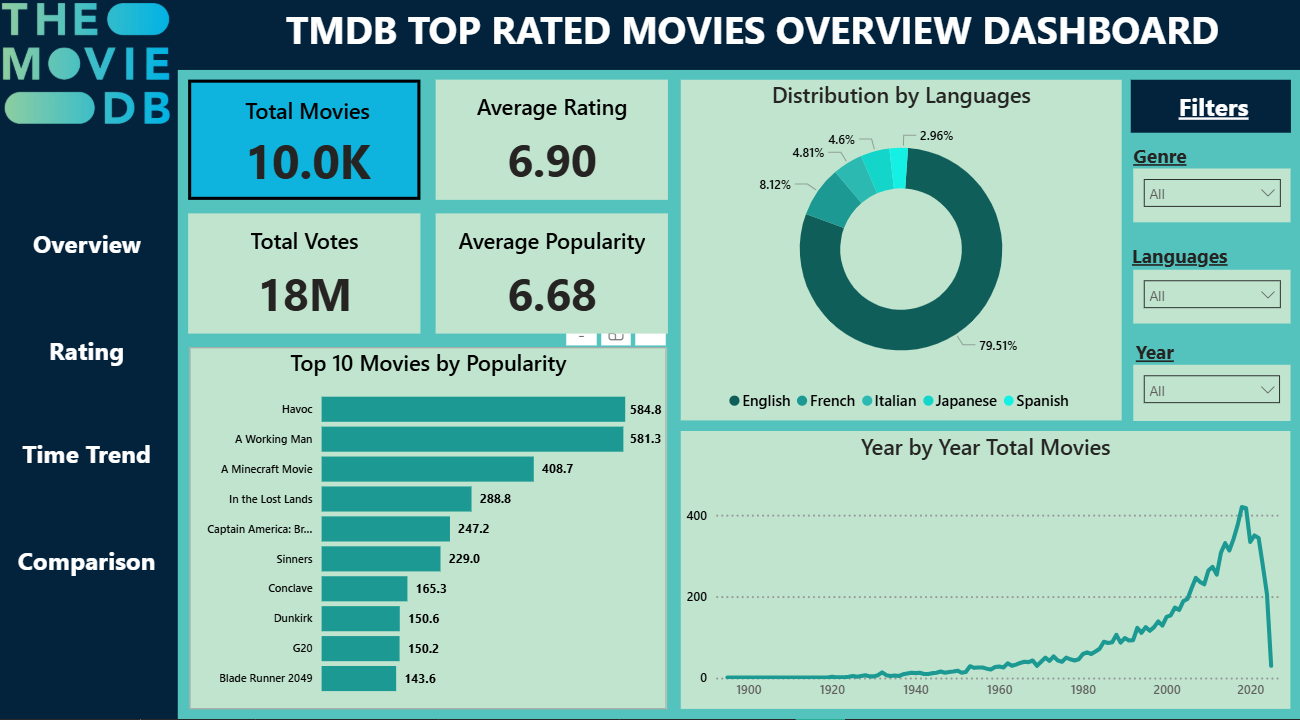

This screenshot's page, from the dashboard's own definition file:
{"tool":"powerbi","page":{"name":"Overview","canvas":[1280,720],"ordinal":0},"visuals":[{"type":"shape","box":[0,0,1280,82.5],"z":0,"group":"g1"},{"type":"barChart","title":"Top 10 Movies by Popularity","fields":{"Category":["api_data tmdb_api_cleaned_data.movie_name"],"Y":["Sum(api_data tmdb_api_cleaned_data.popularity)"]},"box":[189,354.9,468.9,354.9],"z":0},{"type":"shape","box":[0,0,177.5,719.9],"z":1000,"group":"g1"},{"type":"donutChart","title":"Distribution by Languages","fields":{"Category":["api_data tmdb_api_cleaned_data.original_language"],"Y":["CountNonNull(api_data tmdb_api_cleaned_data.id)"]},"box":[670.9,92.3,432.8,334.7],"z":1000},{"type":"lineChart","title":"Year by Year Total Movies","fields":{"Category":["api_data tmdb_api_cleaned_data.release_date.Variation.Date Hierarchy.Year"],"Y":["CountNonNull(api_data tmdb_api_cleaned_data.id)"]},"box":[670.9,437.2,598.7,272.7],"z":2000},{"type":"cardVisual","fields":{"Data":["Count(api_data tmdb_api_cleaned_data.id)"]},"box":[183.2,86.6,238.1,128.4],"z":3000},{"type":"cardVisual","fields":{"Data":["Avg(api_data tmdb_api_cleaned_data.vote_average)"]},"box":[425.6,86.6,238.1,128.4],"z":4000},{"type":"cardVisual","fields":{"Data":["Sum(api_data tmdb_api_cleaned_data.vote_count)"]},"box":[183.2,217.9,238.1,128.4],"z":5000},{"type":"slicer","fields":{"Values":["movies_genre.genre"]},"box":[1115.3,179.1,154.6,52.8],"z":6000},{"type":"cardVisual","fields":{"Data":["Avg(api_data tmdb_api_cleaned_data.popularity)"]},"box":[425.6,217.9,238.1,128.4],"z":7000},{"type":"group","id":"g1","title":"Group 1","box":[0,0,1280,719.9],"z":8000},{"type":"textbox","box":[258.9,12.3,965.6,60.1],"z":9000},{"type":"image","box":[0,0,174.6,151.5],"z":10000,"group":"g1"},{"type":"slicer","fields":{"Values":["api_data tmdb_api_cleaned_data.original_language"]},"box":[1115.3,278.5,154.6,52.8],"z":10000},{"type":"slicer","fields":{"Values":["api_data tmdb_api_cleaned_data.release_date.Variation.Date Hierarchy.Year"]},"box":[1115.3,372.2,154.4,54.8],"z":11000},{"type":"textbox","box":[1112.9,341.1,100.6,40.5],"z":12000},{"type":"textbox","box":[1109.2,246.6,144.8,46.6],"z":13000},{"type":"textbox","box":[1110.4,148.5,101.8,40.5],"z":14000},{"type":"shape","box":[1112.4,92.3,157.3,52],"z":15000},{"type":"textbox","box":[1138.3,96.7,111.1,47.6],"z":16000},{"type":"actionButton","box":[1.4,220.7,174.6,62],"z":17000},{"type":"actionButton","box":[0,326.1,176,62],"z":18000},{"type":"actionButton","box":[0,427.1,176,62],"z":19000},{"type":"actionButton","box":[0,532.4,176,62],"z":20000}]}

Visuals, with their boxes in screenshot pixels (x1, y1, x2, y2), scaled from the page's 1280x720 canvas onto the 1300x720 screenshot:
shape: bbox=[0, 0, 1299, 82]
"Top 10 Movies by Popularity" barChart: bbox=[192, 355, 668, 710]
shape: bbox=[0, 0, 180, 719]
"Distribution by Languages" donutChart: bbox=[681, 92, 1121, 427]
"Year by Year Total Movies" lineChart: bbox=[681, 437, 1289, 710]
cardVisual - Count(api_data tmdb_api_cleaned_data.id): bbox=[186, 87, 428, 215]
cardVisual - Avg(api_data tmdb_api_cleaned_data.vote_average): bbox=[432, 87, 674, 215]
cardVisual - Sum(api_data tmdb_api_cleaned_data.vote_count): bbox=[186, 218, 428, 346]
slicer - movies_genre.genre: bbox=[1133, 179, 1290, 232]
cardVisual - Avg(api_data tmdb_api_cleaned_data.popularity): bbox=[432, 218, 674, 346]
"Group 1" group: bbox=[0, 0, 1299, 719]
textbox: bbox=[263, 12, 1244, 72]
image: bbox=[0, 0, 177, 152]
slicer - api_data tmdb_api_cleaned_data.original_language: bbox=[1133, 278, 1290, 331]
slicer - api_data tmdb_api_cleaned_data.release_date.Variation.Date Hierarchy.Year: bbox=[1133, 372, 1290, 427]
textbox: bbox=[1130, 341, 1232, 382]
textbox: bbox=[1127, 247, 1274, 293]
textbox: bbox=[1128, 148, 1231, 189]
shape: bbox=[1130, 92, 1290, 144]
textbox: bbox=[1156, 97, 1269, 144]
actionButton: bbox=[1, 221, 179, 283]
actionButton: bbox=[0, 326, 179, 388]
actionButton: bbox=[0, 427, 179, 489]
actionButton: bbox=[0, 532, 179, 594]
